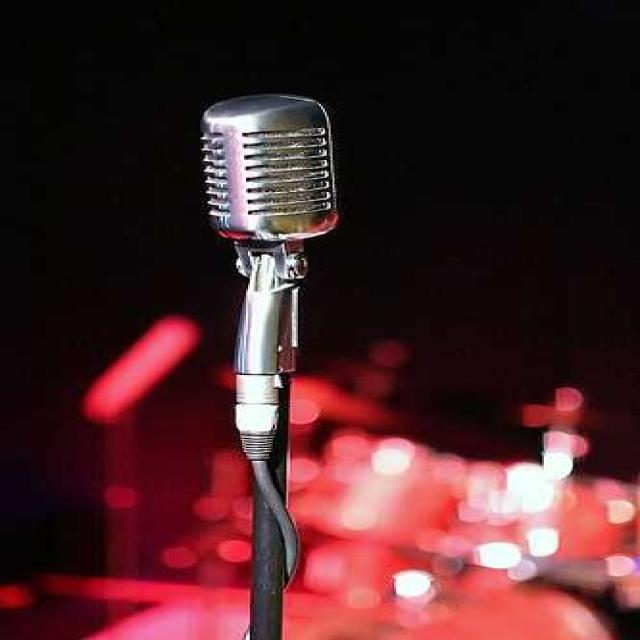microphone: (202, 94, 340, 250)
